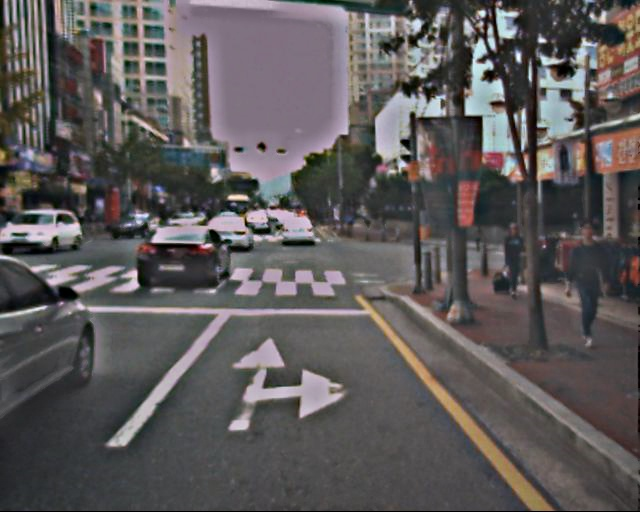person: (557, 221, 616, 350), (499, 221, 530, 296)
